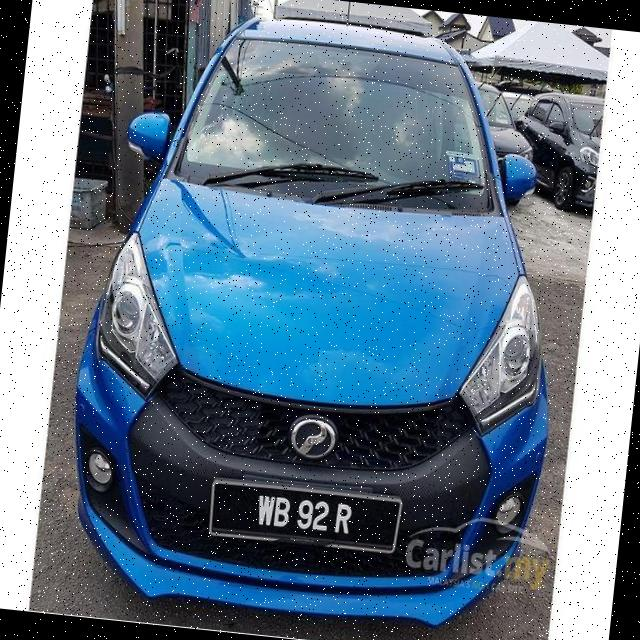License_Plate: (200, 470, 408, 566)
car: (51, 1, 590, 640)
